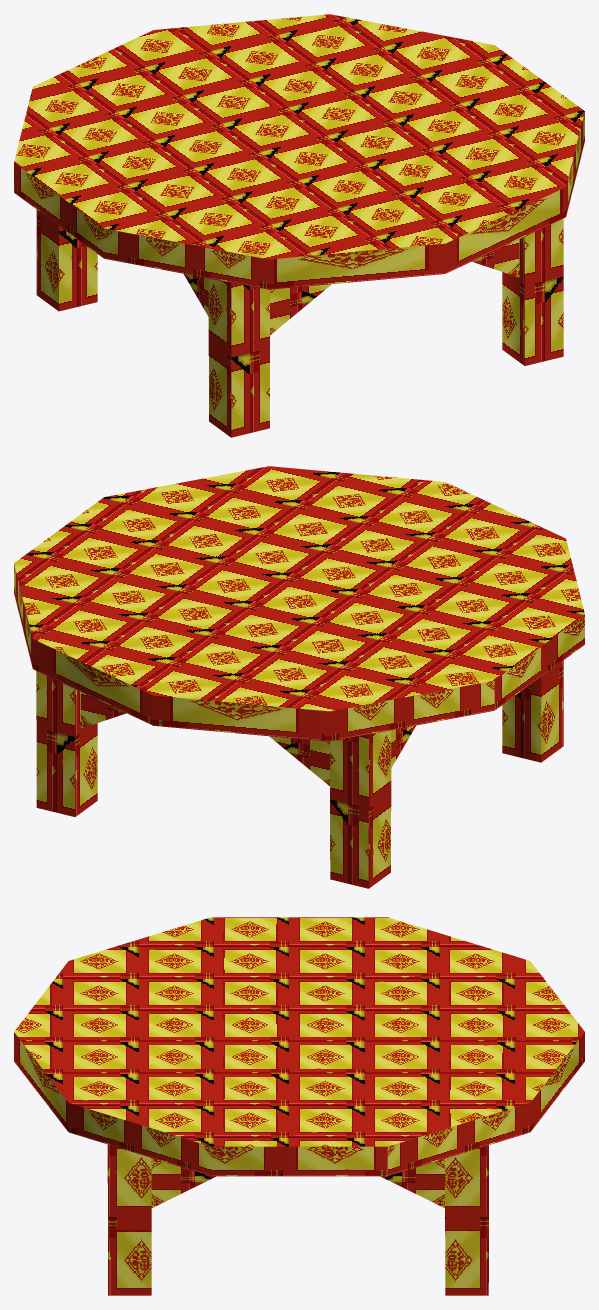
The model's file is 3096IMRL07_05.gltf.
3 views of the same model, one above another, from view 1: azimuth 30°, elevation 25°; view 2: azimuth 150°, elevation 25°; view 3: azimuth 270°, elevation 25° (orthographic). The views are drawn at different scales.
Parts seen in each view (by area): view 1: 3096IMRL07_05; view 2: 3096IMRL07_05; view 3: 3096IMRL07_05.
Boxes of the visible parts, left/top/right/bottom form: 3096IMRL07_05: left=14, top=14, right=584, bottom=437; 3096IMRL07_05: left=14, top=466, right=584, bottom=888; 3096IMRL07_05: left=14, top=917, right=584, bottom=1295.
Bounding box in the file's own units: 2 × 0.75 × 2.1.
1 material, 1 textured.
